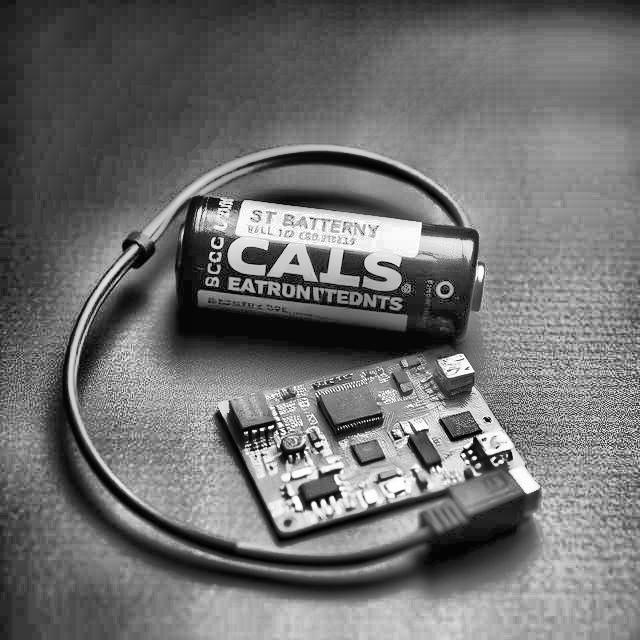Battery: (169, 195, 487, 334)
Cable: (63, 145, 540, 566)
PCB: (213, 345, 535, 536)
